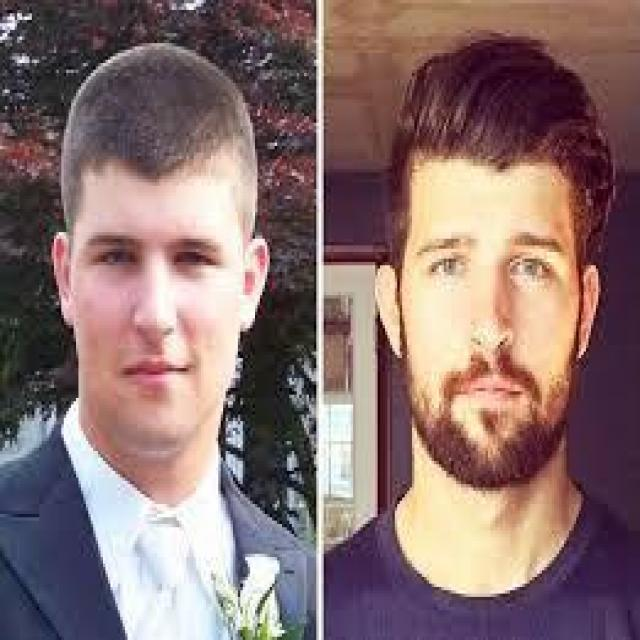person: (2, 46, 316, 637), (331, 43, 638, 633)
